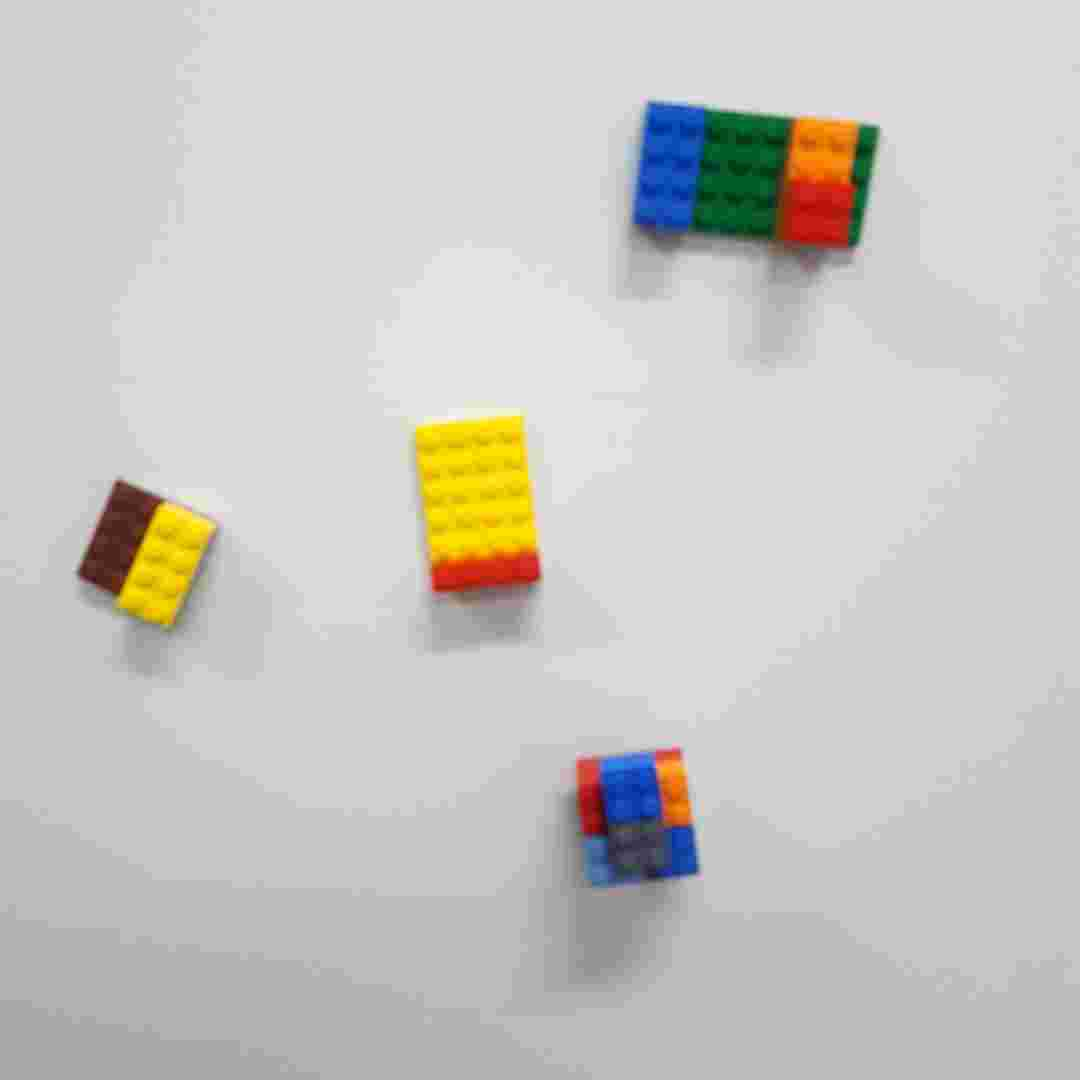LEGO: (625, 95, 883, 254), (409, 403, 552, 599), (571, 731, 705, 908), (74, 479, 225, 634)
